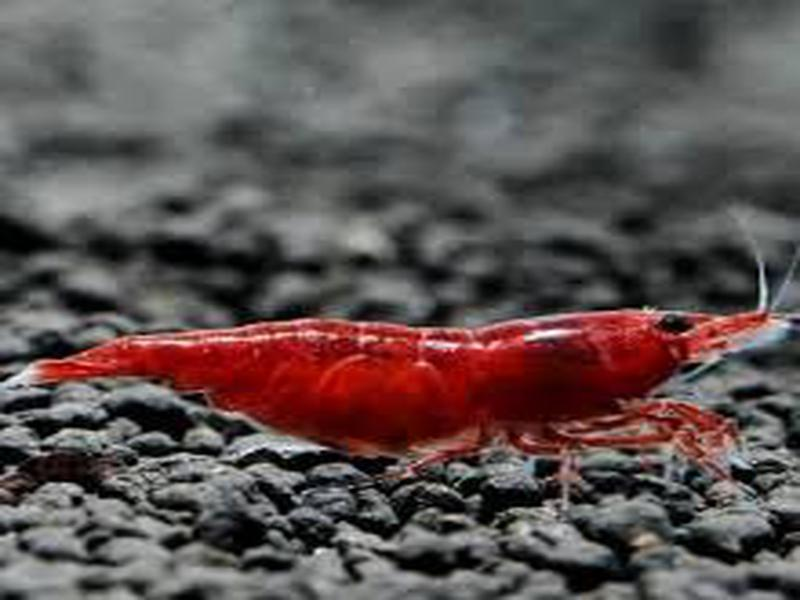shrimp: (37, 306, 779, 461)
